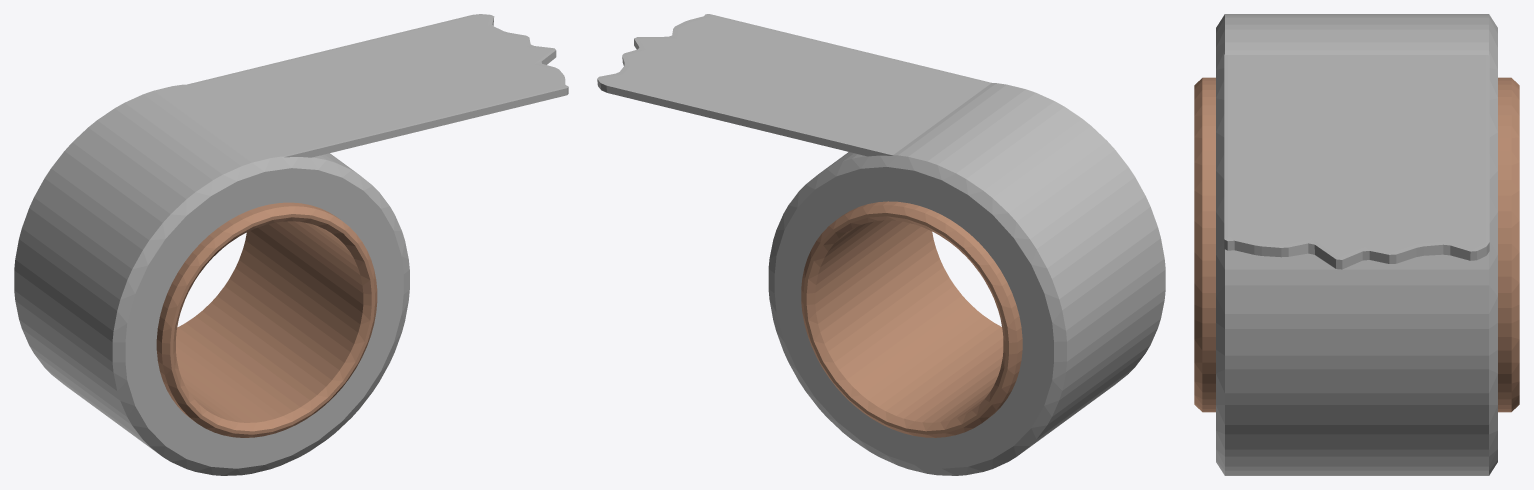
Rendered from DuctTapePickup.fbx.
3 views of the same model, side by side, from view 1: azimuth 30°, elevation 25°; view 2: azimuth 150°, elevation 25°; view 3: azimuth 270°, elevation 25° (orthographic). The views are drawn at different scales.
Parts seen in each view (by area): view 1: Cylinder, Cylinder.001, Cube.001; view 2: Cylinder, Cylinder.001, Cube.001; view 3: Cylinder, Cube.001, Cylinder.001.
Boxes of the visible parts, x1,y1,x2,y2 form: Cylinder: (14,84,409,475); Cylinder.001: (156,202,377,437); Cube.001: (187,14,568,157); Cylinder: (768,83,1165,475); Cylinder.001: (801,201,1022,437); Cube.001: (597,14,991,156); Cylinder: (1216,14,1497,475); Cube.001: (1224,54,1489,269); Cylinder.001: (1194,77,1519,412).
Size of the model in its own units: 325 by 199 by 140.
